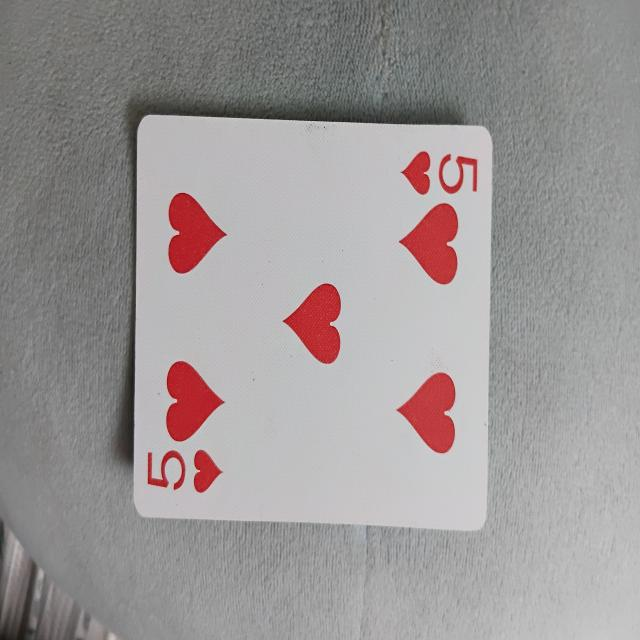5H: (134, 124, 487, 528)
